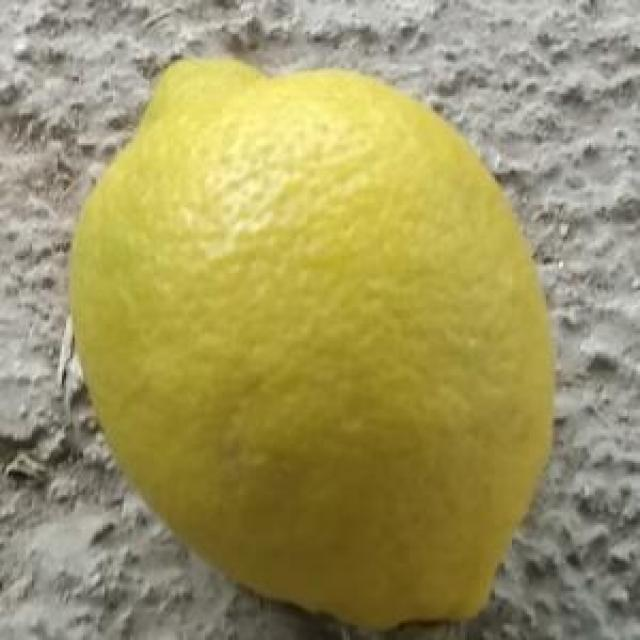lemon: (63, 58, 562, 640)
